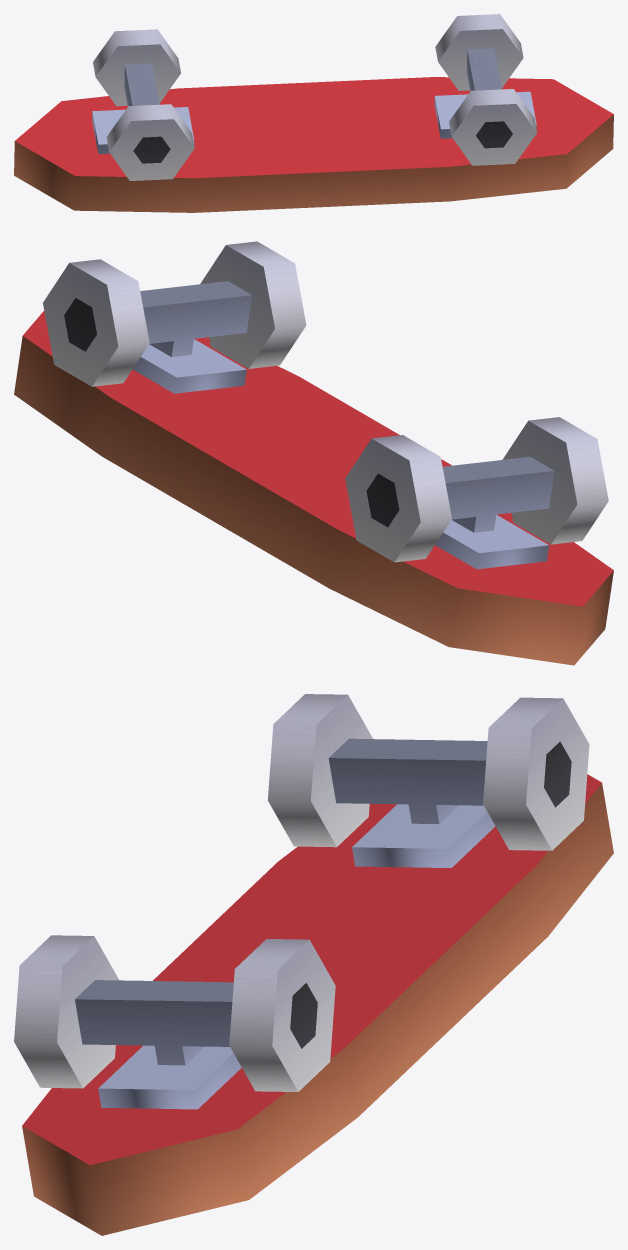
Rendered from skateboard.001_lev2.glb.
The picture shows the model from 3 angles, top to bottom: view 1: azimuth 30°, elevation 25°; view 2: azimuth 150°, elevation 25°; view 3: azimuth 270°, elevation 25°; orthographic projection. The views are drawn at different scales.
Parts seen in each view (by area): view 1: skateboard.001_lev2; view 2: skateboard.001_lev2; view 3: skateboard.001_lev2.
Boxes of the visible parts, x1,y1,x2,y2 form: skateboard.001_lev2: [14, 14, 613, 212]; skateboard.001_lev2: [14, 241, 613, 665]; skateboard.001_lev2: [14, 694, 613, 1235].
Size of the model in its own units: 2.6 by 0.6599 by 1.55.
Materials: 1 (1 with a texture image).
